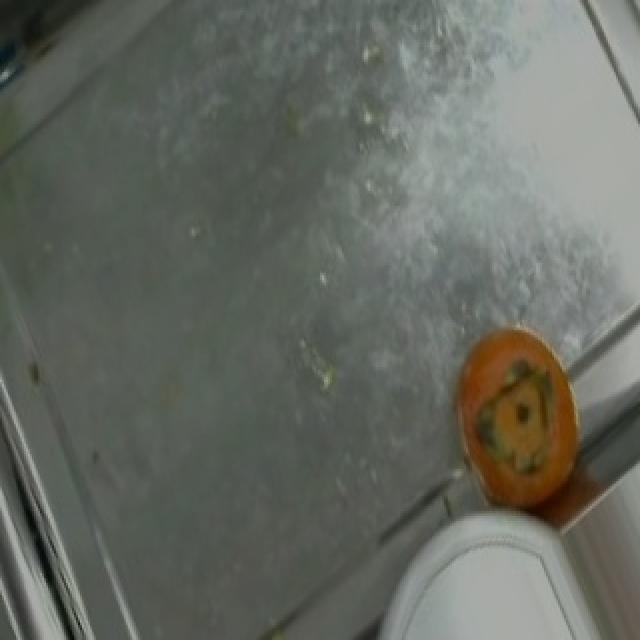Fruit: (428, 305, 604, 528), (374, 513, 598, 640)
